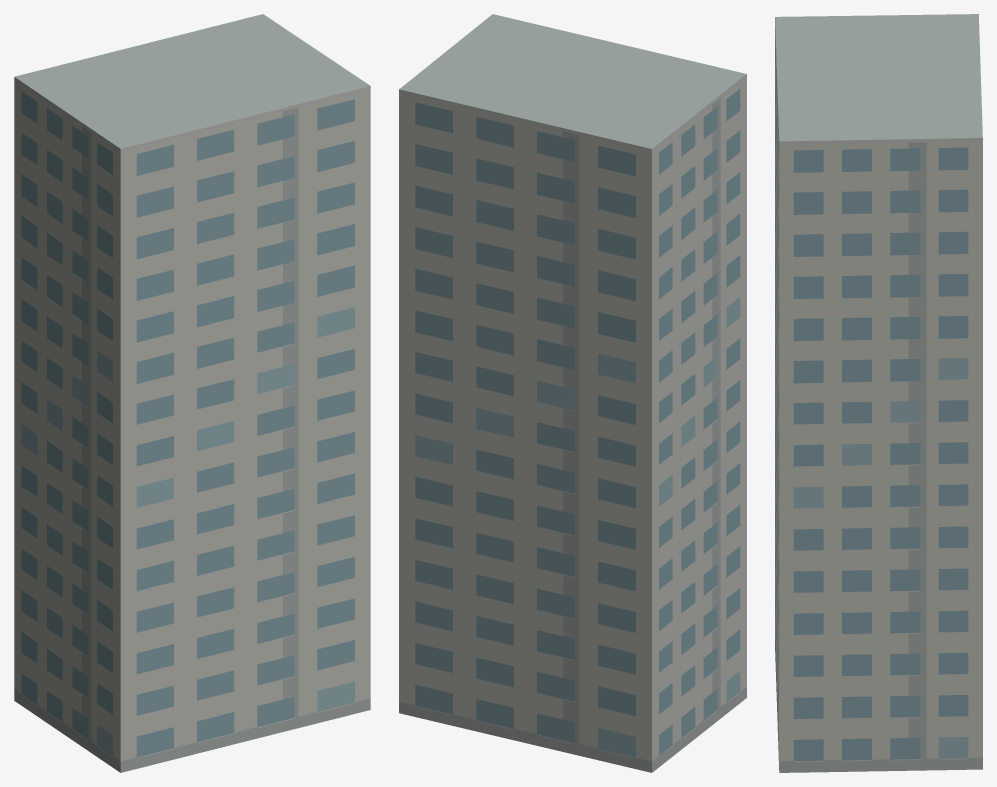
Rendered from residential-11730436-3b24-4be7-ad06-e5006ca2a384.glb.
3 views of the same model, side by side, from view 1: azimuth 30°, elevation 25°; view 2: azimuth 150°, elevation 25°; view 3: azimuth 270°, elevation 25° (orthographic).
Visible parts, largest first — view 1: residential-11730436-3b24-4be7-ad06-e5006ca2a384.tmp; view 2: residential-11730436-3b24-4be7-ad06-e5006ca2a384.tmp; view 3: residential-11730436-3b24-4be7-ad06-e5006ca2a384.tmp.
Boxes of the visible parts, <box> form: residential-11730436-3b24-4be7-ad06-e5006ca2a384.tmp: <box>14,14,370,772</box>; residential-11730436-3b24-4be7-ad06-e5006ca2a384.tmp: <box>399,14,746,772</box>; residential-11730436-3b24-4be7-ad06-e5006ca2a384.tmp: <box>775,14,982,772</box>.
Bounding box in the file's own units: 19.91 × 46 × 13.73.
